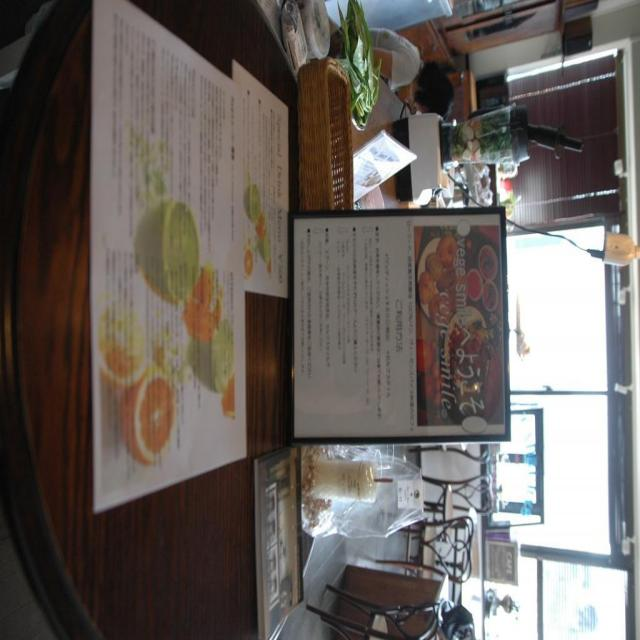Table: (0, 0, 311, 639)
